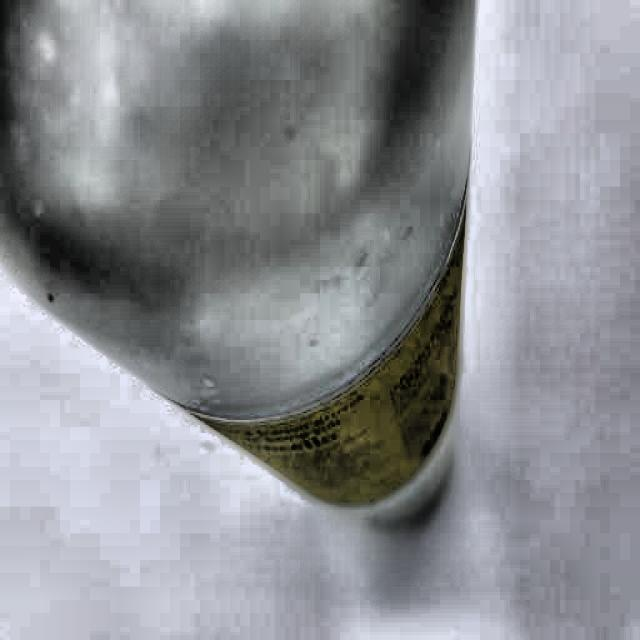glass: (0, 0, 474, 515)
